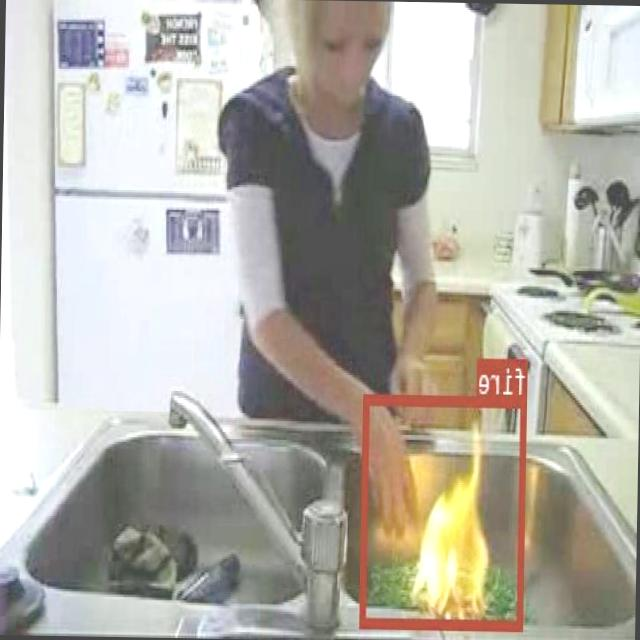fire: (361, 393, 528, 628)
